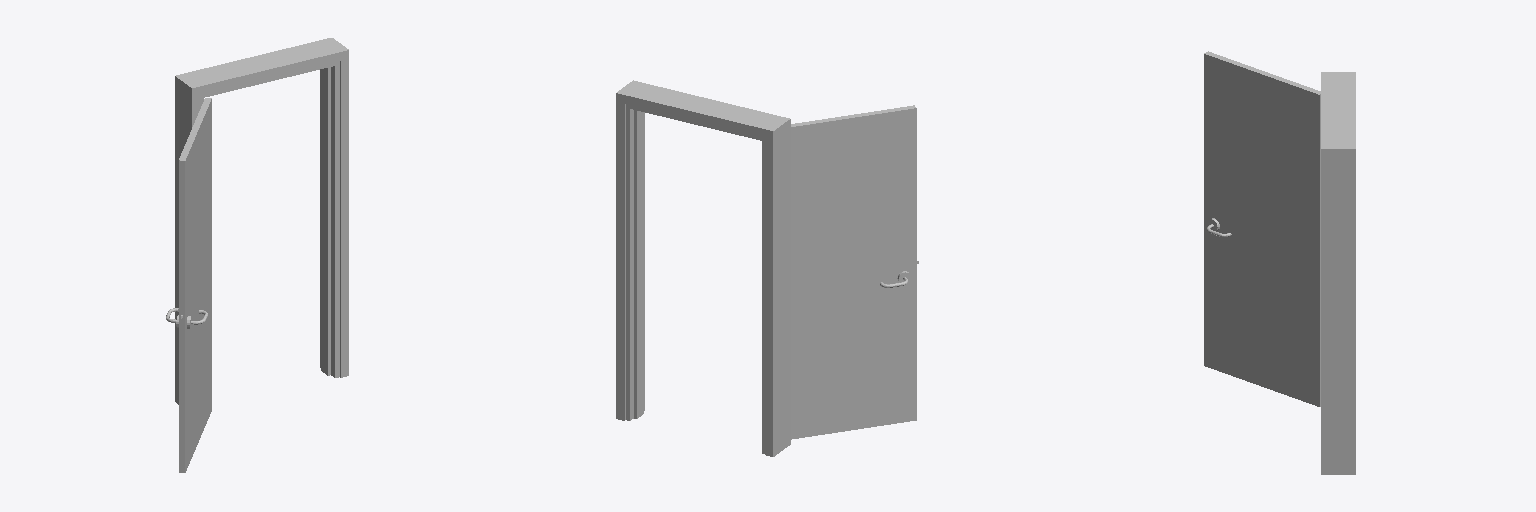
Rendered from door.obj.
3 views of the same model, side by side, from view 1: azimuth 30°, elevation 25°; view 2: azimuth 150°, elevation 25°; view 3: azimuth 270°, elevation 25° (orthographic).
Visible parts, largest first — view 1: door_Hinge_low_Cylinder.002; view 2: door_Hinge_low_Cylinder.002; view 3: door_Hinge_low_Cylinder.002.
Part boxes in pixels (bbox=[...]): door_Hinge_low_Cylinder.002: bbox=[166, 38, 348, 472]; door_Hinge_low_Cylinder.002: bbox=[616, 80, 918, 456]; door_Hinge_low_Cylinder.002: bbox=[1204, 51, 1355, 474].
Bounding box in the file's own units: 1.46 × 2 × 0.8438.